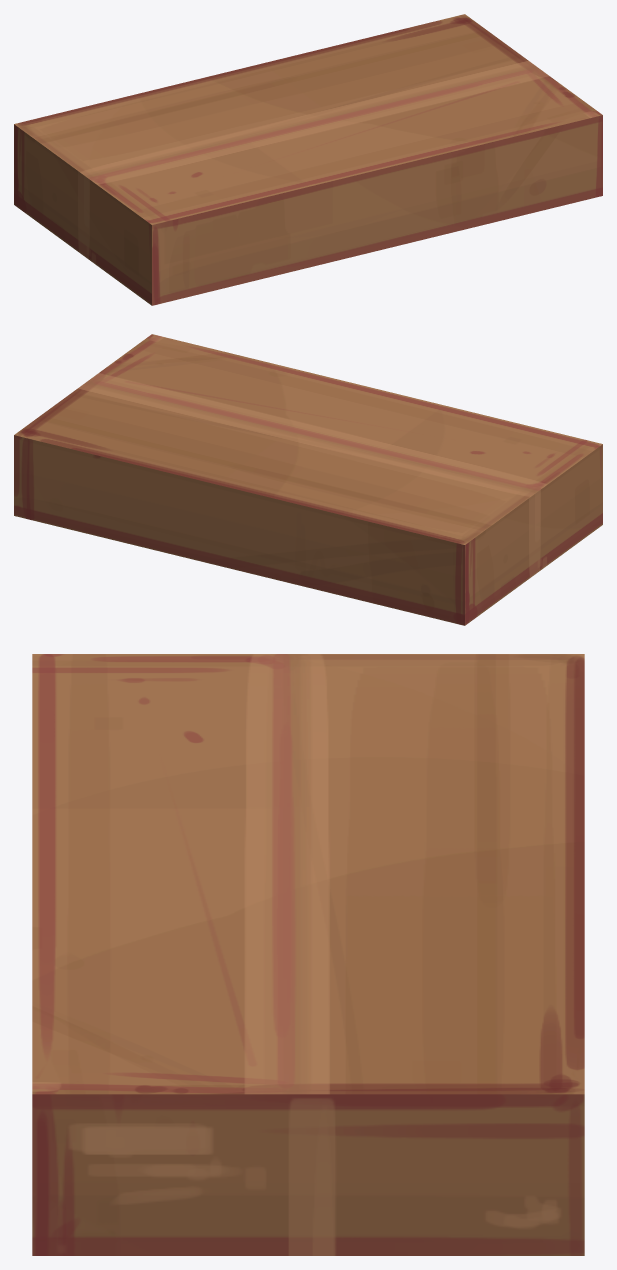
The picture shows the model from 3 angles, top to bottom: view 1: azimuth 30°, elevation 25°; view 2: azimuth 150°, elevation 25°; view 3: azimuth 270°, elevation 25°; orthographic projection. The views are drawn at different scales.
Parts seen in each view (by area): view 1: Box_03_collision; view 2: Box_03_collision; view 3: Box_03_collision.
Boxes of the visible parts, box(x1,y1,x2,y2) form: Box_03_collision: box(14, 14, 602, 305); Box_03_collision: box(14, 334, 602, 625); Box_03_collision: box(32, 654, 584, 1255).
Size of the model in its own units: 1.87 by 0.3207 by 0.9935.
